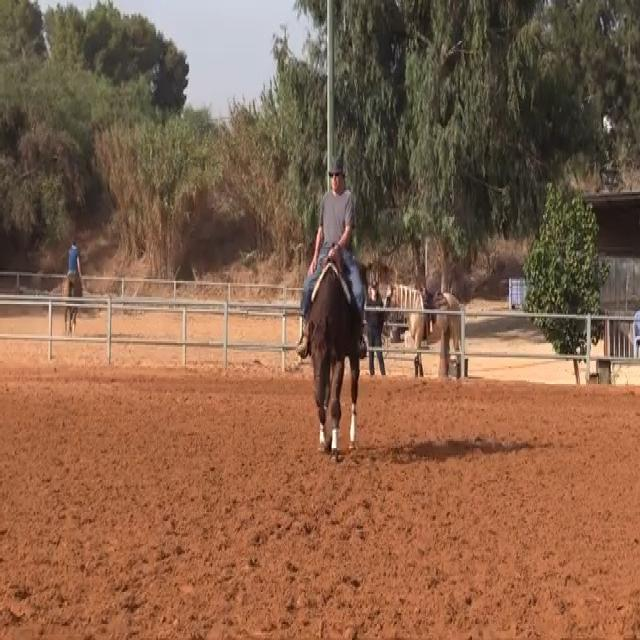horse: (306, 251, 369, 462)
